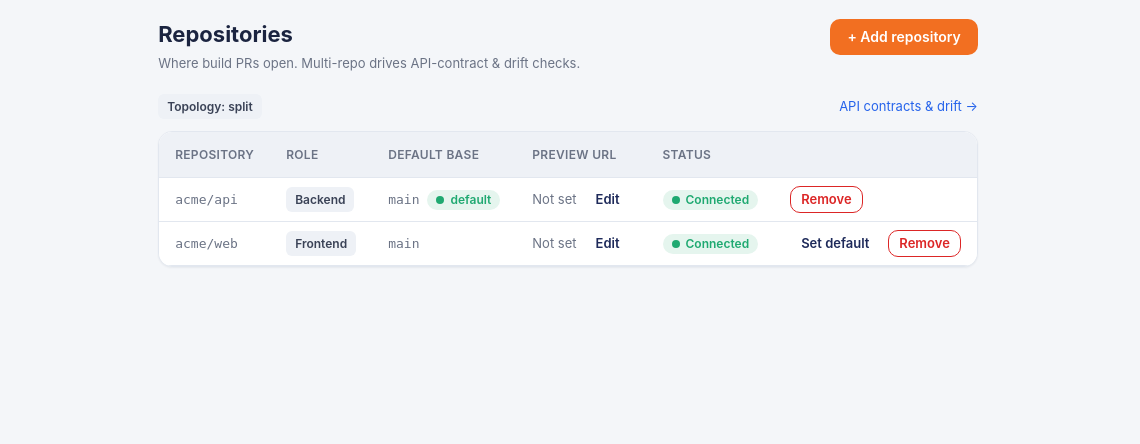
the add form › leaves the table and its Set default in place while it is open
The image size is (1140, 444).
Check: the text "acme/web" is shown, box 175,236 -> 238,251
Click the button "+ Add repository": (904, 37) 830,19 -> 978,55
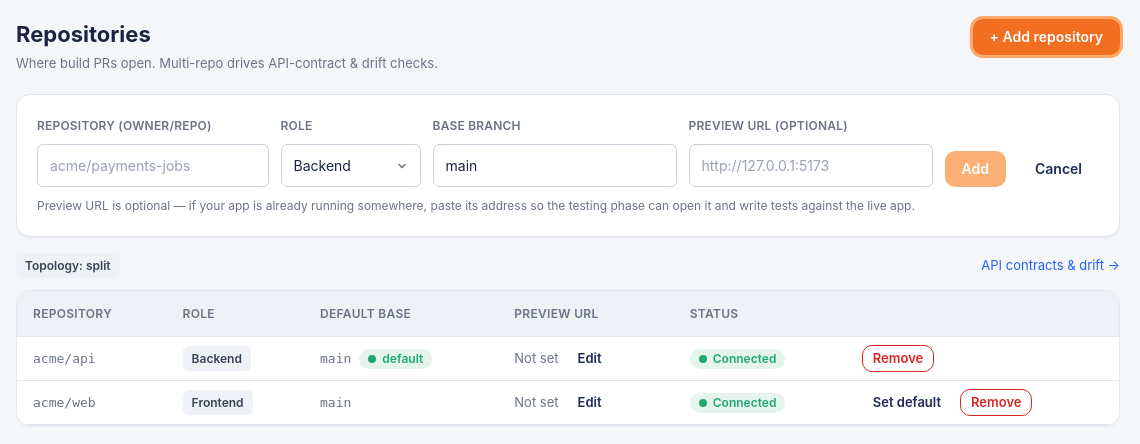
Check: the button "Set default" is shown, box 862,389 -> 952,416
Check: the field with placeholder "acme/payments-jobs" is shown, box 37,144 -> 268,187
